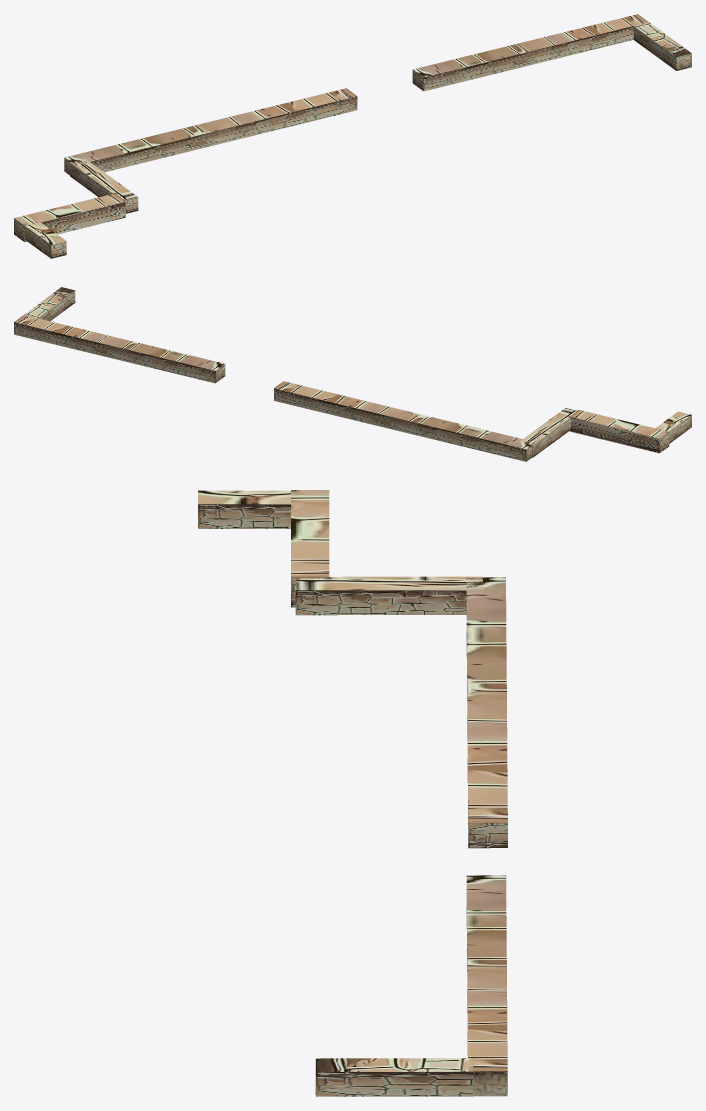
The model's file is sacsaywamanMuros.fbx.
The picture shows the model from 3 angles, top to bottom: view 1: azimuth 30°, elevation 25°; view 2: azimuth 150°, elevation 25°; view 3: azimuth 270°, elevation 25°; orthographic projection. The views are drawn at different scales.
Visible parts, largest first — view 1: Cubo.024, Cubo.019; view 2: Cubo.024, Cubo.019; view 3: Cubo.024, Cubo.019.
Boxes of the visible parts, <box> form: Cubo.024: <box>14,88,357,258</box>; Cubo.019: <box>412,14,691,91</box>; Cubo.024: <box>274,381,691,461</box>; Cubo.019: <box>14,287,225,383</box>; Cubo.024: <box>198,490,507,848</box>; Cubo.019: <box>315,875,507,1096</box>.
Size of the model in its own units: 11698 by 321 by 2610.
